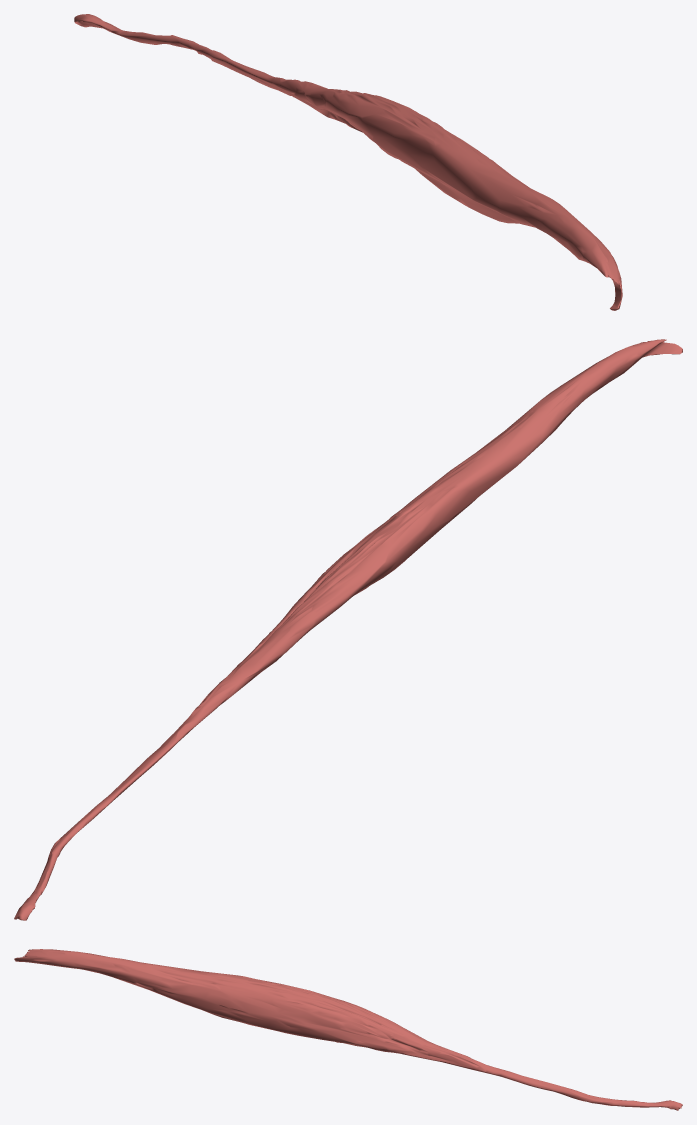
3 renders of one model, top to bottom at view 1: azimuth 30°, elevation 25°; view 2: azimuth 150°, elevation 25°; view 3: azimuth 270°, elevation 25°, orthographic. The views are drawn at different scales.
Visible parts, largest first — view 1: 左侧桡侧腕短伸肌; view 2: 左侧桡侧腕短伸肌; view 3: 左侧桡侧腕短伸肌.
Boxes of the visible parts, x1,y1,x2,y2 form: 左侧桡侧腕短伸肌: (74, 14, 622, 310); 左侧桡侧腕短伸肌: (14, 339, 682, 920); 左侧桡侧腕短伸肌: (14, 949, 682, 1110).
Bounding box in the file's own units: 0.0675 × 0.1001 × 0.4607.
